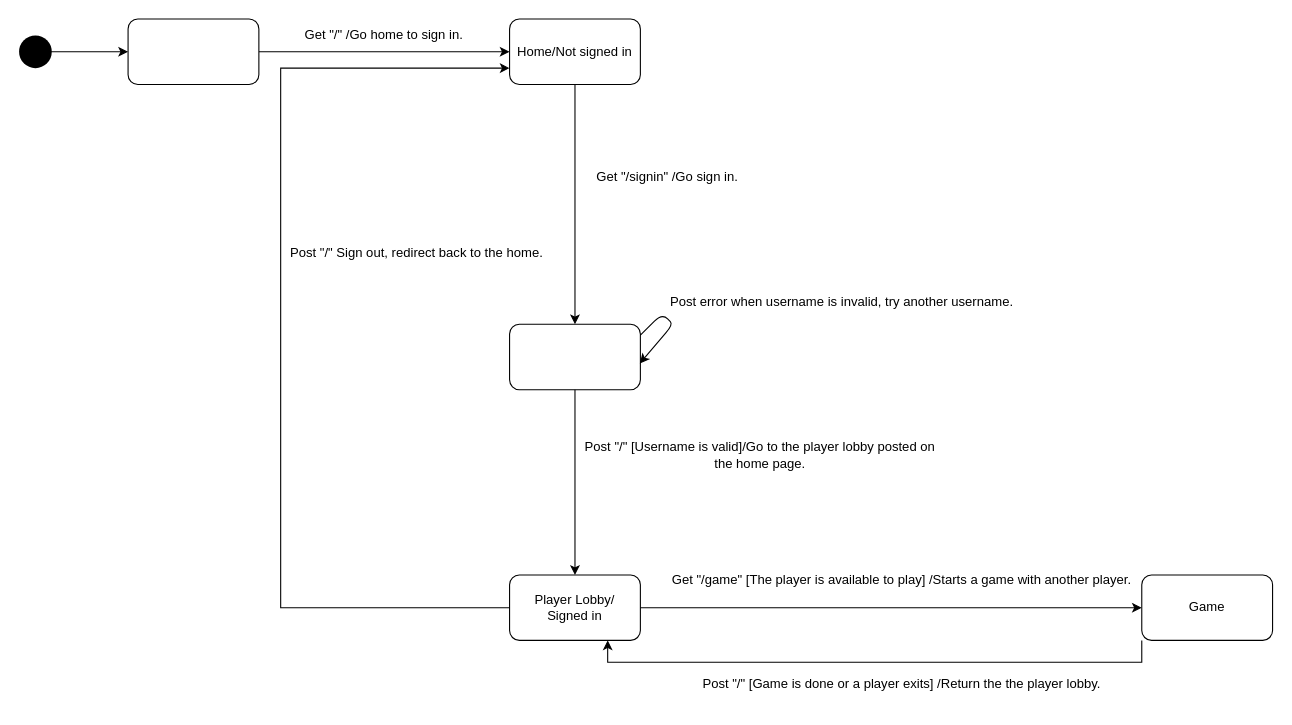
Image size: 1292x725. Some labels were removed from this diagram. Here are the shapes that lost their labels. From the top down, the centre of each, then its label:
At pixel 193 51: "No Connection".
At pixel 574 356: "Sign-in".
